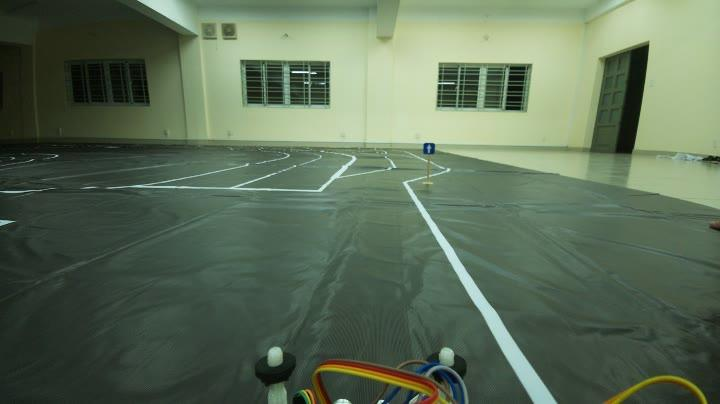onewayroad: (417, 142, 436, 156)
